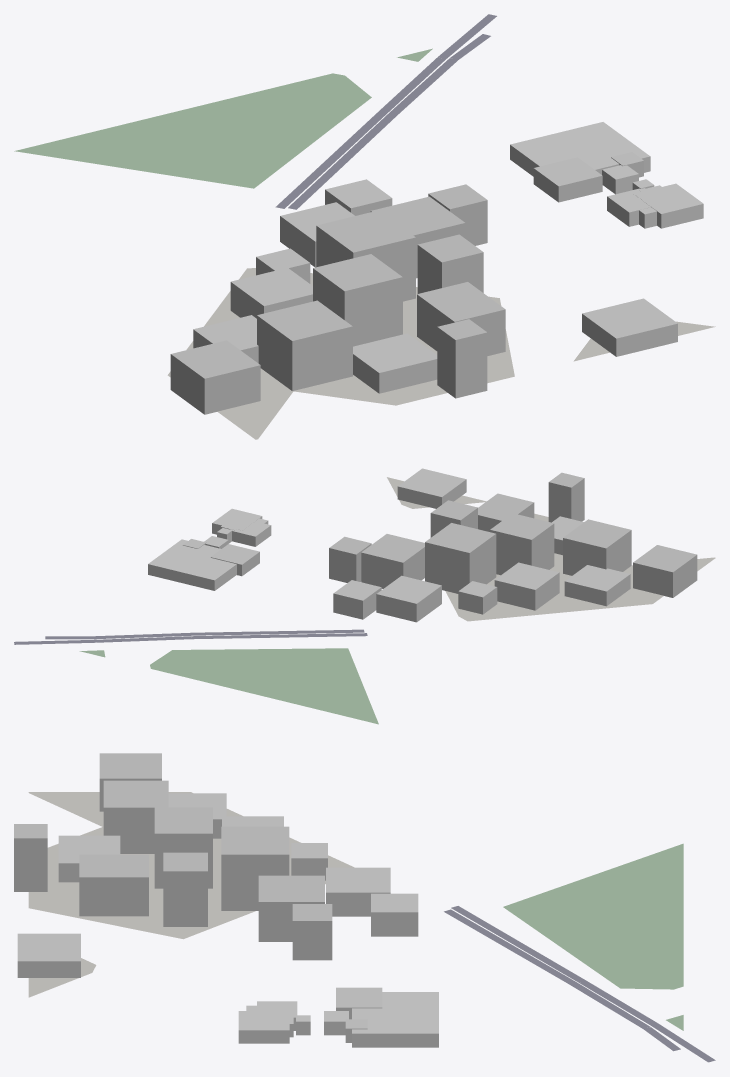
File: 135_107_mid.glb
The picture shows the model from 3 angles, top to bottom: view 1: azimuth 30°, elevation 25°; view 2: azimuth 150°, elevation 25°; view 3: azimuth 270°, elevation 25°; orthographic projection. The views are drawn at different scales.
Bounding box in the file's own units: 506 × 47.46 × 536.
